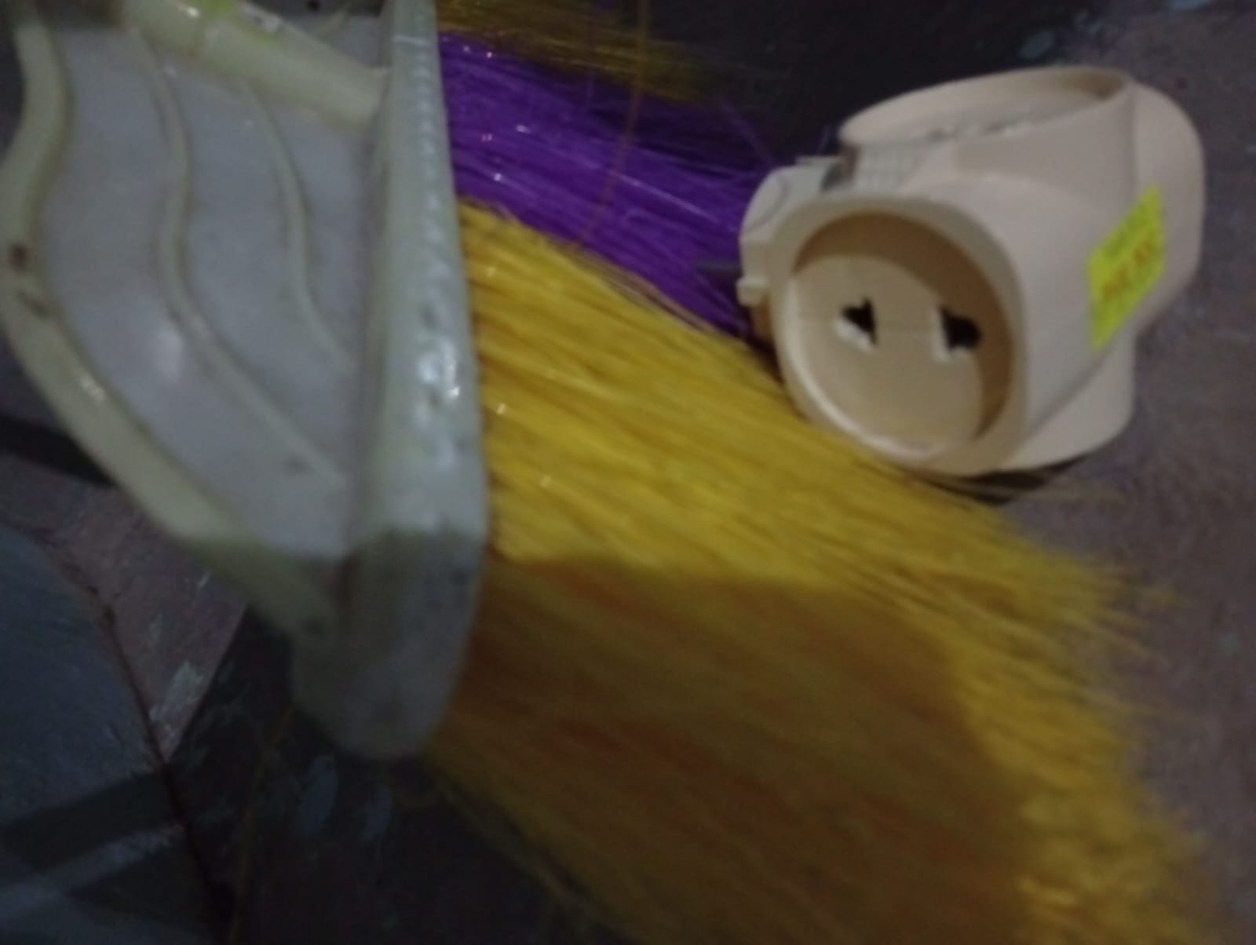Colokan: (676, 34, 1225, 493)
